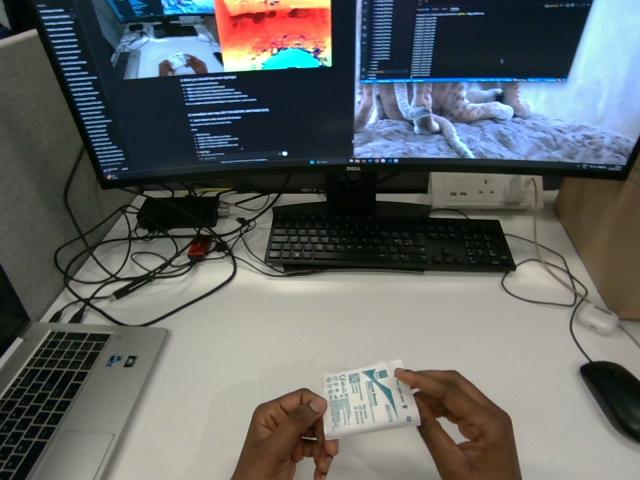gauze: (323, 360, 419, 439)
